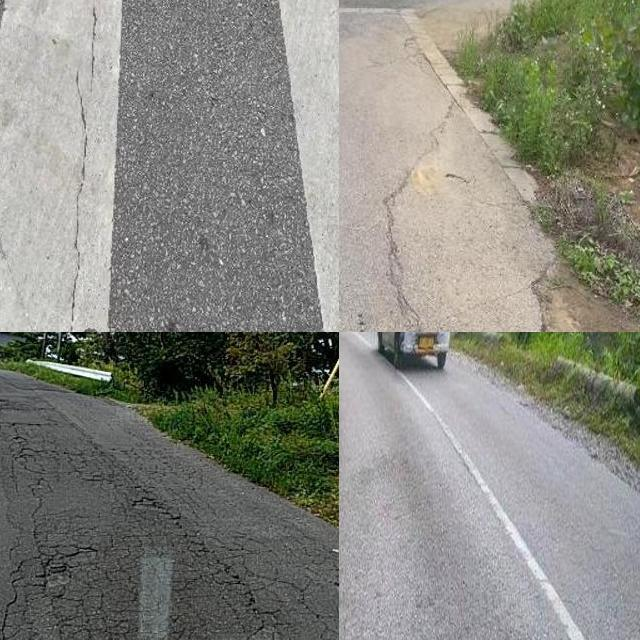Memanjang: (49, 0, 120, 332)
Pinggir: (473, 128, 640, 332)
Retak Buaya: (0, 411, 339, 640)
